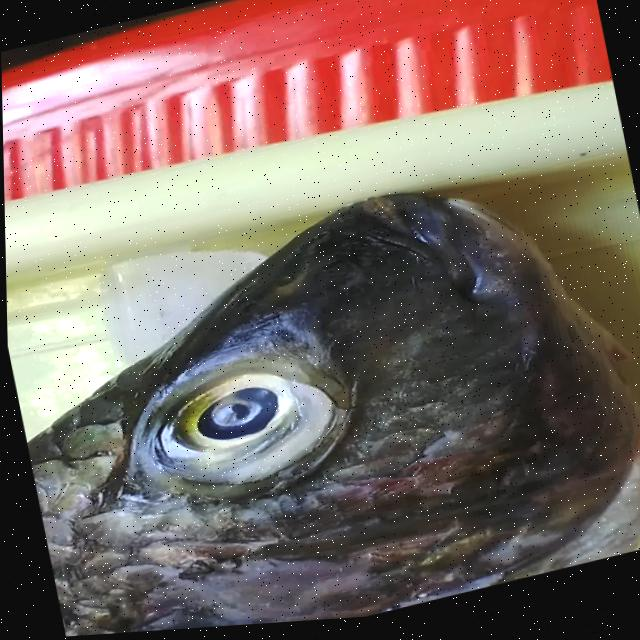Fresh: (80, 283, 440, 516)
